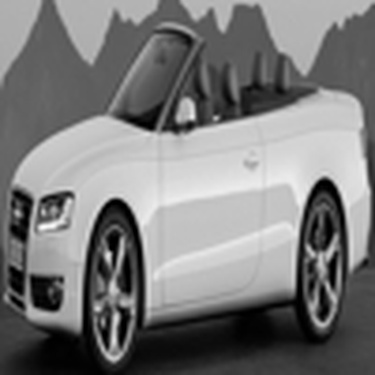car: (6, 17, 372, 362)
